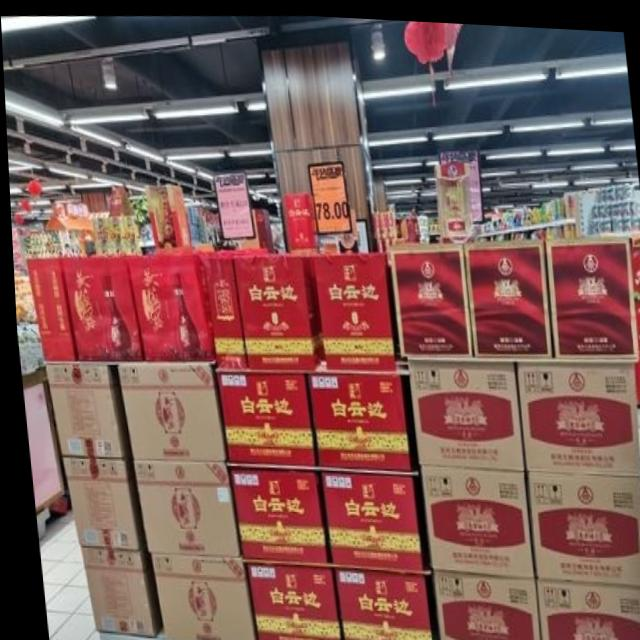box: (513, 358, 635, 471), (525, 467, 640, 581), (416, 461, 529, 573), (403, 357, 521, 463), (544, 232, 637, 354), (114, 361, 222, 461), (229, 254, 321, 367), (462, 237, 550, 354), (130, 460, 234, 556), (315, 469, 418, 565), (304, 373, 407, 468), (309, 250, 391, 368), (224, 464, 323, 560), (213, 372, 312, 465), (145, 554, 250, 640), (386, 242, 468, 352), (125, 255, 211, 359), (59, 257, 140, 359), (42, 364, 128, 457), (427, 567, 534, 640), (56, 456, 140, 548), (327, 565, 427, 640), (530, 573, 640, 640), (240, 563, 333, 640), (75, 547, 156, 635), (197, 255, 244, 366), (25, 256, 73, 362)
